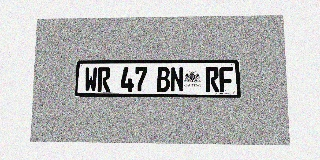4: (121, 67, 134, 92)
7: (134, 67, 147, 92)
B: (157, 67, 170, 92)
F: (219, 67, 233, 92)
N: (170, 67, 184, 92)
R: (97, 67, 111, 92), (205, 67, 219, 92)
W: (84, 67, 97, 92)
